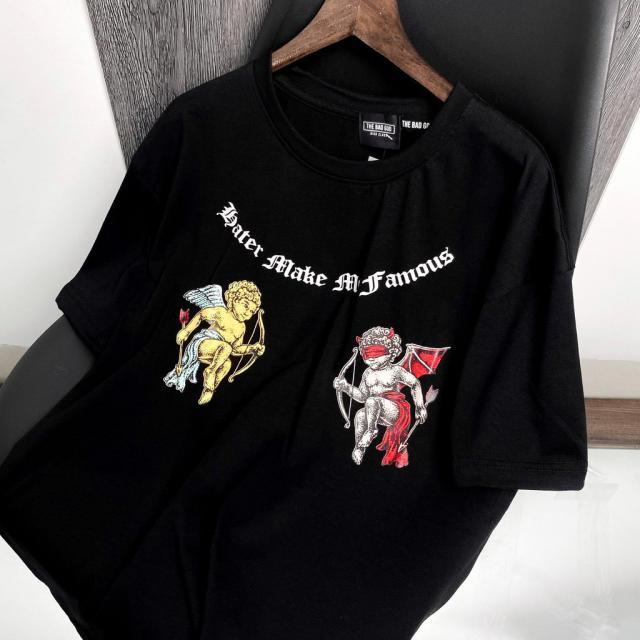Shirt: (0, 54, 595, 639)
